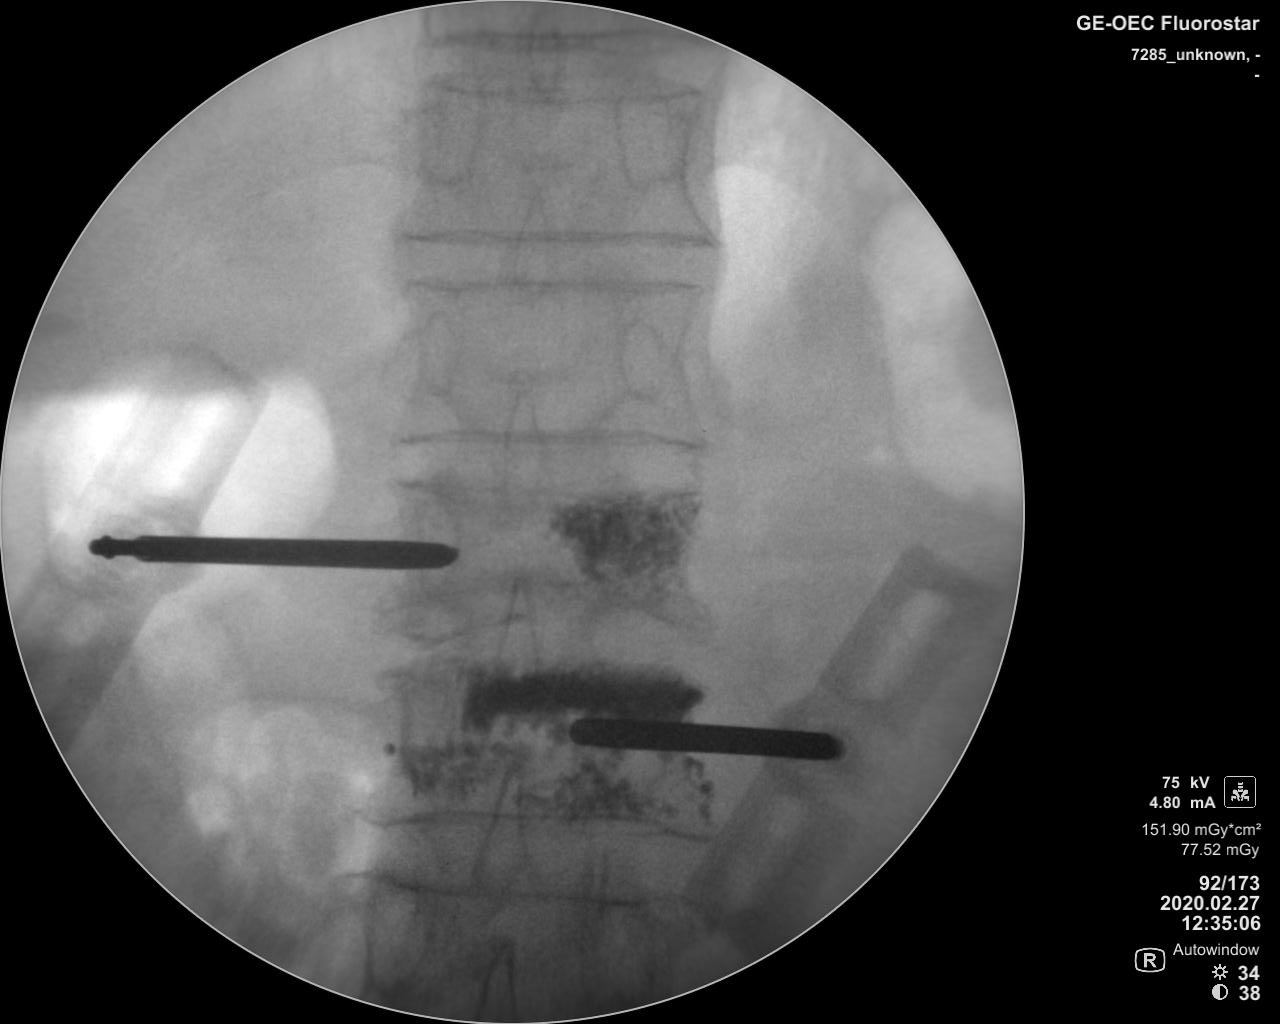eyes: (417, 82, 486, 190), (366, 879, 428, 993), (610, 88, 678, 189), (404, 495, 457, 592), (615, 317, 668, 404), (413, 306, 455, 399)
line: (344, 802, 717, 846), (345, 868, 652, 915), (389, 426, 707, 455), (419, 75, 708, 106), (391, 274, 708, 298), (414, 30, 688, 57), (395, 229, 722, 251)
nose: (470, 757, 530, 908), (498, 566, 539, 727), (501, 385, 543, 519), (512, 183, 551, 307), (470, 939, 523, 1024), (527, 2, 564, 96)
